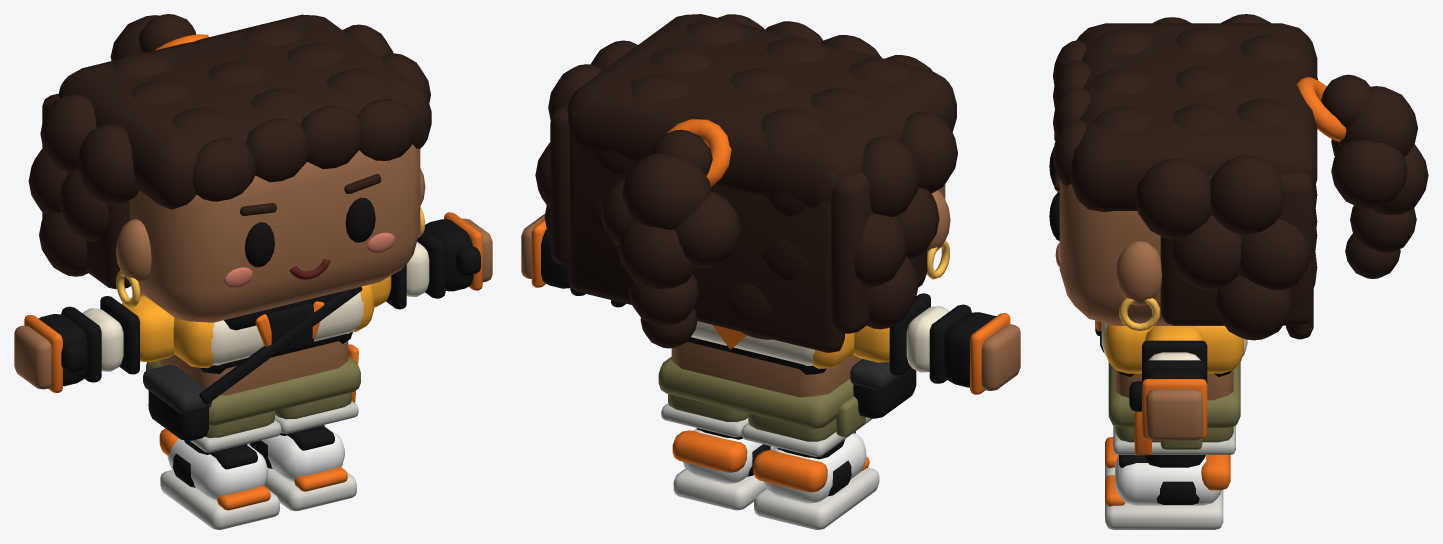
Rendered from yun_urban_mini_v02.glb.
3 renders of one model, left to right at view 1: azimuth 30°, elevation 25°; view 2: azimuth 150°, elevation 25°; view 3: azimuth 270°, elevation 25°, orthographic. The views are drawn at different scales.
Visible parts, largest first — view 1: Hair_Curls, Head, Shorts, Shoe_R, Shoe_L, Arm_R, Jacket, Hand_R, Bag, Torso, Hand_L, Arm_L (+8 smaller); view 2: Hair_Curls, Hair_Ponytail, Shorts, Shoe_R, Shoe_L, Arm_R, Hand_R, Torso, Jacket, Bag, Hand_L, Scrunchie (+2 smaller); view 3: Hair_Curls, Hair_Ponytail, Head, Shoe_L, Hand_L, Shorts, Jacket, Arm_L, Scrunchie, Torso, Earrings, Leg_L (+2 smaller).
Part boxes in pixels (box(x1,y1,x2,y2)): Hair_Curls: box(28, 14, 431, 289); Head: box(116, 144, 425, 322); Shorts: box(146, 356, 360, 452); Shoe_R: box(159, 428, 279, 529); Shoe_L: box(248, 425, 356, 511); Arm_R: box(61, 295, 174, 382); Jacket: box(140, 284, 374, 368); Hand_R: box(14, 314, 87, 392); Bag: box(143, 365, 211, 440); Torso: box(159, 341, 348, 395); Hand_L: box(425, 212, 492, 291); Arm_L: box(371, 228, 445, 309); Hair_Curls: box(535, 14, 957, 352); Hair_Ponytail: box(600, 129, 740, 348); Shorts: box(658, 357, 872, 456); Shoe_R: box(753, 431, 879, 529); Shoe_L: box(672, 428, 776, 510); Arm_R: box(853, 293, 971, 383); Hand_R: box(944, 312, 1020, 394); Torso: box(671, 342, 862, 397); Jacket: box(691, 321, 854, 368); Bag: box(850, 359, 916, 418); Hand_L: box(521, 214, 570, 288); Scrunchie: box(667, 119, 731, 186); Hair_Curls: box(1053, 14, 1317, 340); Hair_Ponytail: box(1321, 74, 1428, 278); Head: box(1059, 179, 1224, 325); Shoe_L: box(1105, 455, 1230, 529); Hand_L: box(1129, 368, 1207, 440); Shorts: box(1108, 362, 1240, 454); Jacket: box(1101, 322, 1247, 373); Arm_L: box(1142, 326, 1207, 383); Scrunchie: box(1297, 77, 1346, 141); Torso: box(1115, 369, 1233, 400); Earrings: box(1119, 298, 1160, 331); Leg_L: box(1144, 455, 1205, 467).
Bounding box in the file's own units: 0.77 × 0.672 × 0.545.
